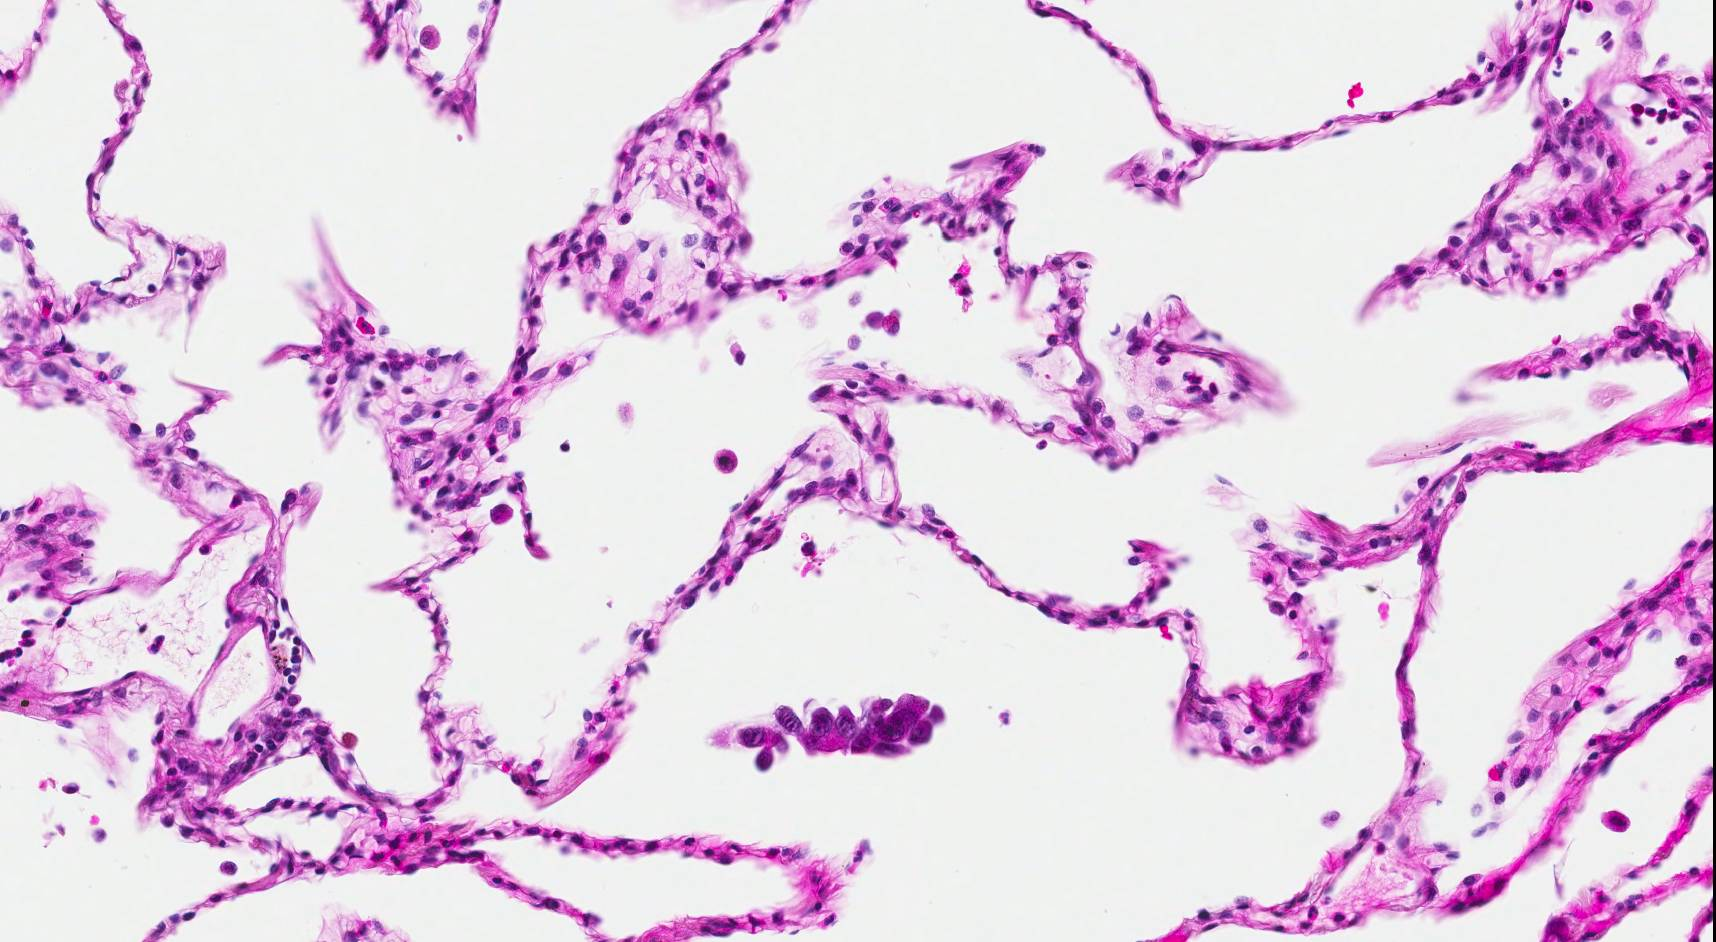stas: (702, 689, 947, 773)
